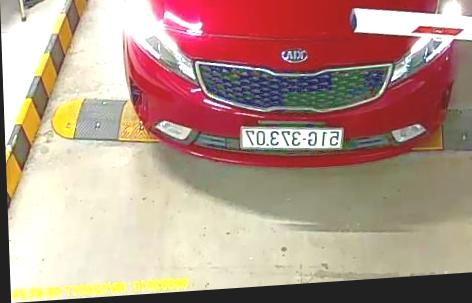License_Plate: (238, 119, 343, 157)
